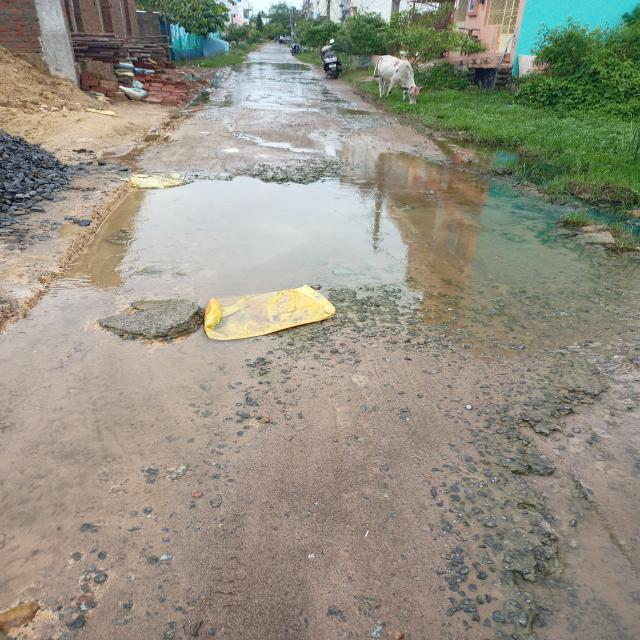potholes: (83, 161, 640, 327)
